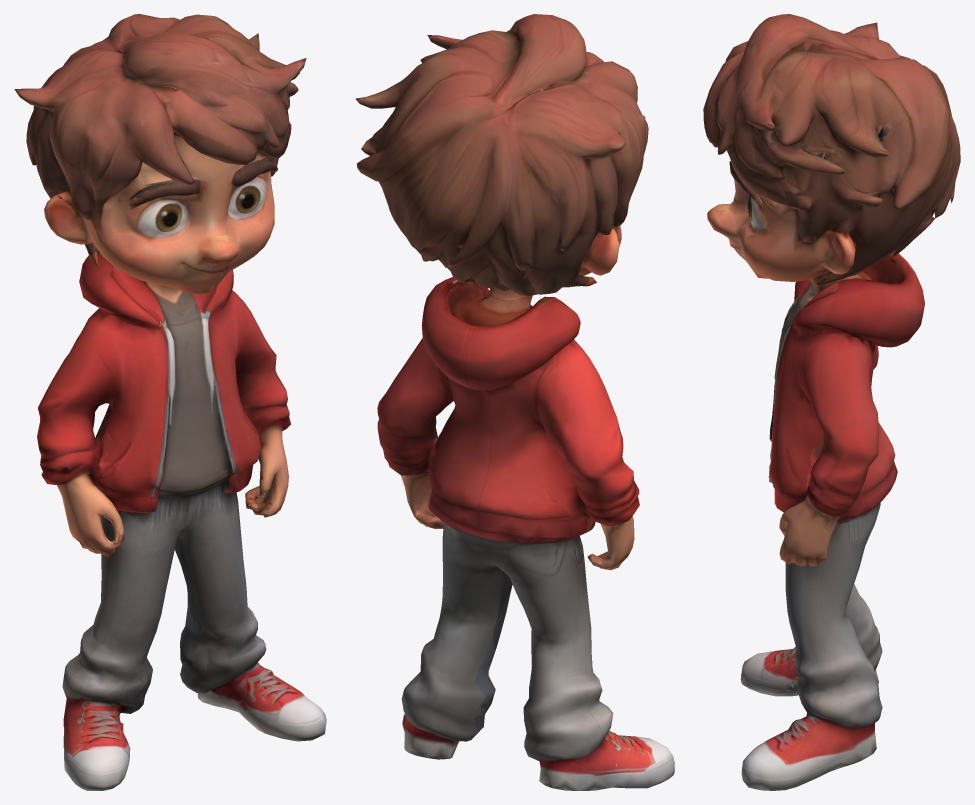
File: Adventurous_Boy_Anima_0601151217_texture.glb
3 renders of one model, left to right at view 1: azimuth 30°, elevation 25°; view 2: azimuth 150°, elevation 25°; view 3: azimuth 270°, elevation 25°, orthographic. The views are drawn at different scales.
Bounding box in the file's own units: 0.7376 × 2 × 0.6597.
1 material, 1 textured.
